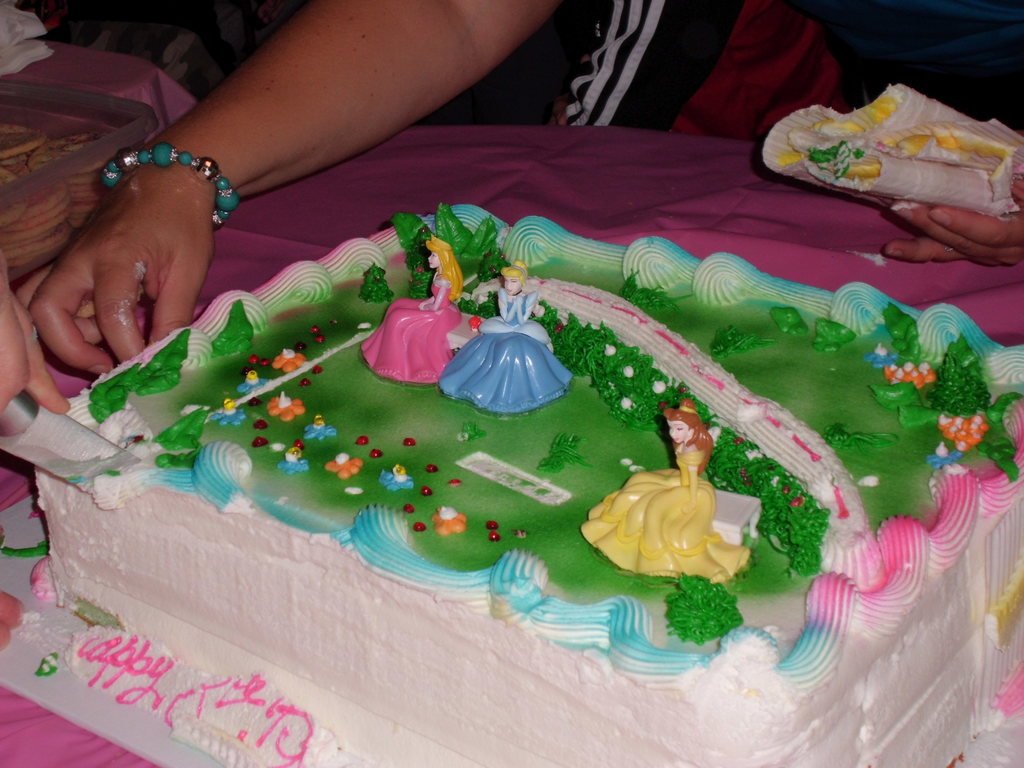person: (0, 0, 216, 444)
